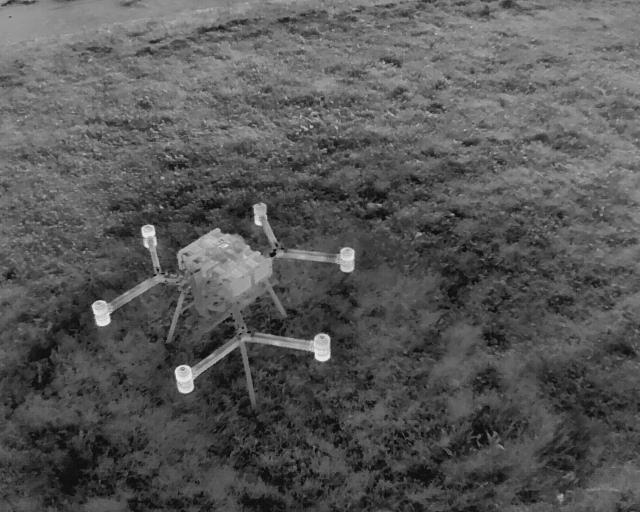drone: (85, 191, 363, 423)
